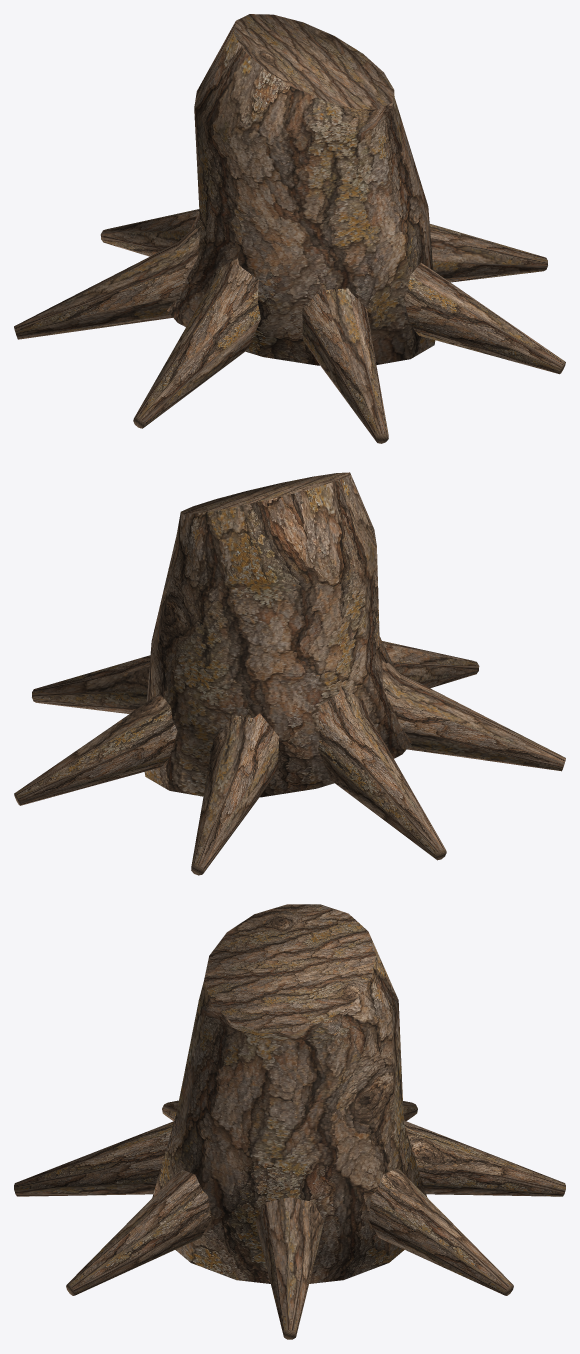
The model's file is Autumn_RootStump.fbx.
3 views of the same model, one above another, from view 1: azimuth 30°, elevation 25°; view 2: azimuth 150°, elevation 25°; view 3: azimuth 270°, elevation 25° (orthographic).
Parts seen in each view (by area): view 1: RootStump_Wood; view 2: RootStump_Wood; view 3: RootStump_Wood.
Boxes of the visible parts, left/top/right/bottom form: RootStump_Wood: left=14, top=14, right=565, bottom=443; RootStump_Wood: left=14, top=472, right=565, bottom=875; RootStump_Wood: left=14, top=904, right=565, bottom=1339.
Bounding box in the file's own units: 307 × 189 × 315.
